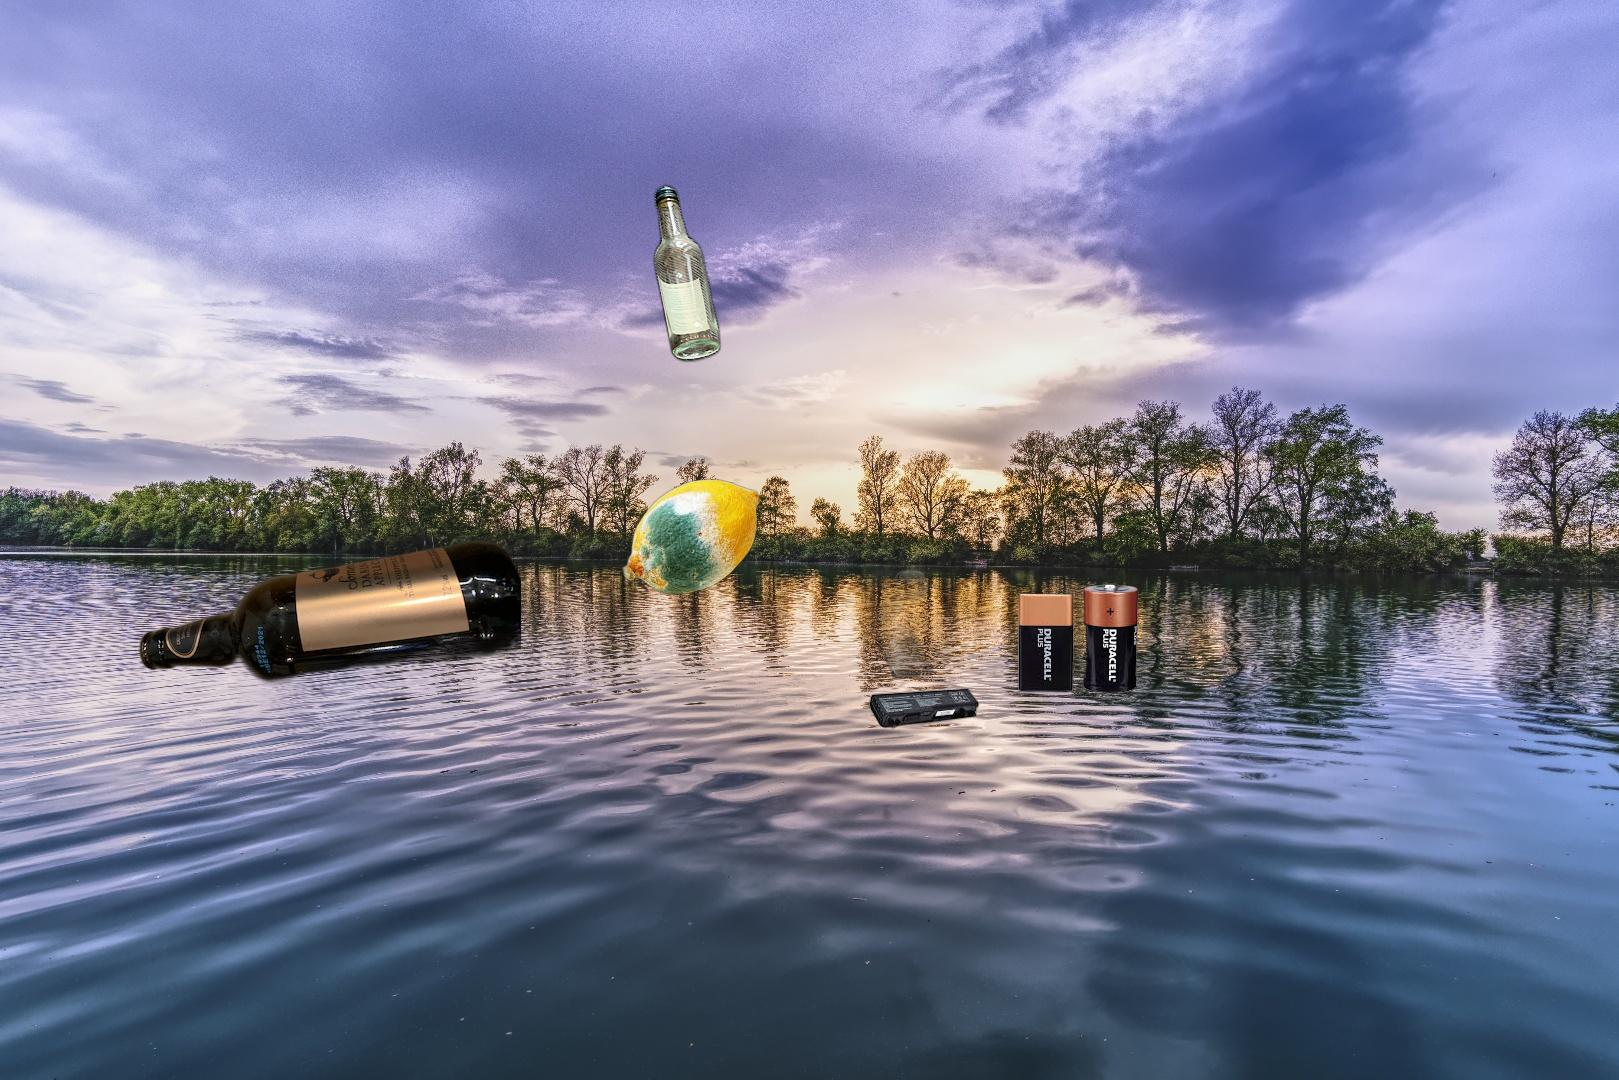battery: (854, 567, 1144, 733)
biological: (618, 476, 763, 597)
glass: (135, 539, 521, 689), (650, 180, 725, 368)
